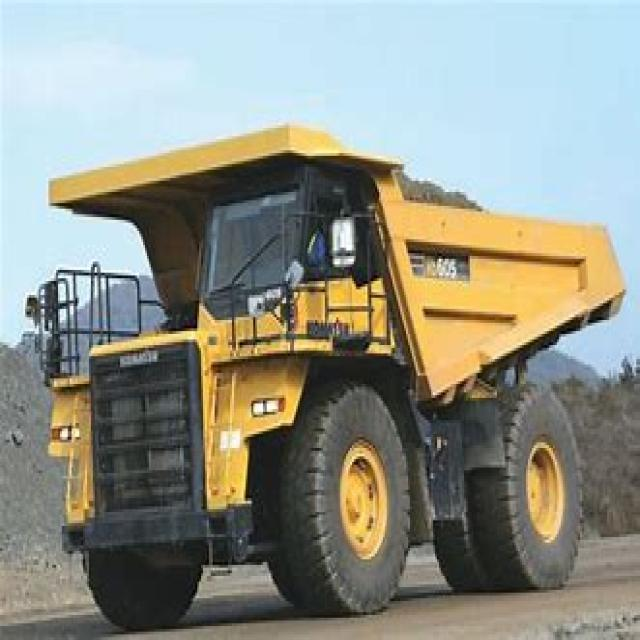dump_truck: (40, 120, 620, 598)
